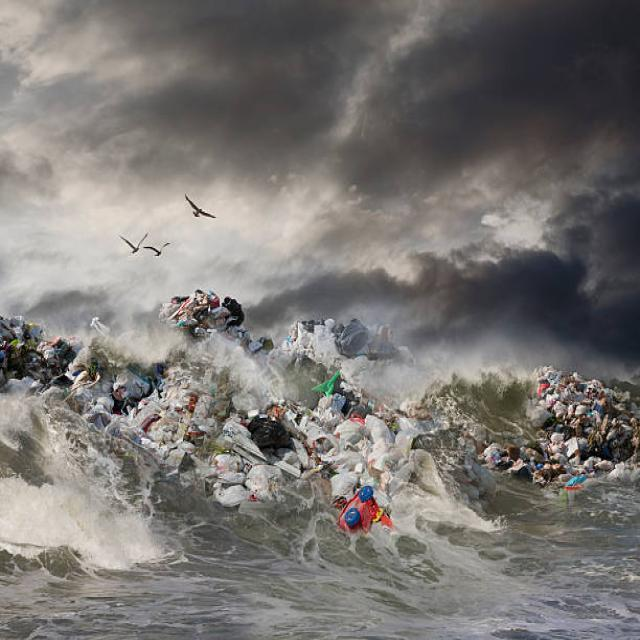trash: (12, 344, 608, 500), (168, 283, 231, 337)
